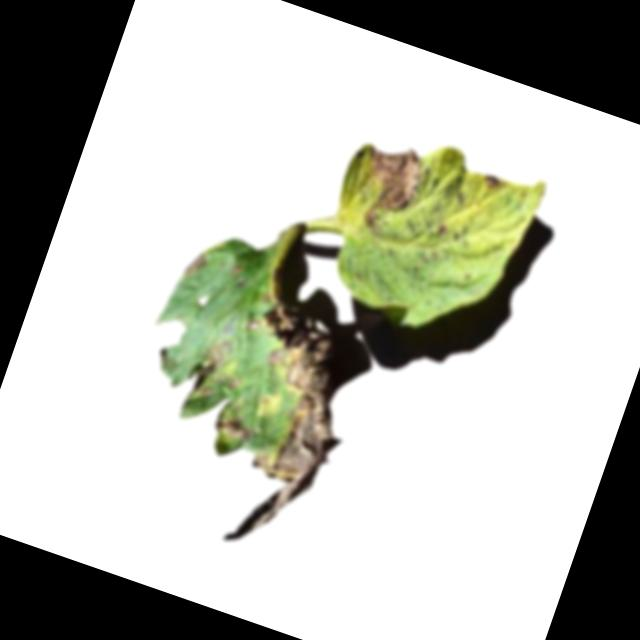Early_blight: (186, 306, 363, 564), (344, 136, 429, 246), (180, 332, 249, 410), (180, 245, 213, 285), (481, 171, 507, 194)
